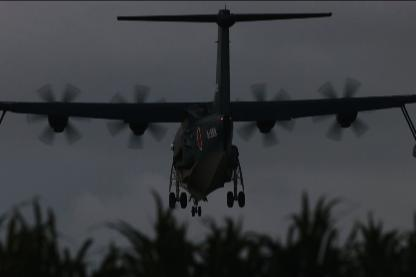Tu95: (0, 3, 415, 217)
